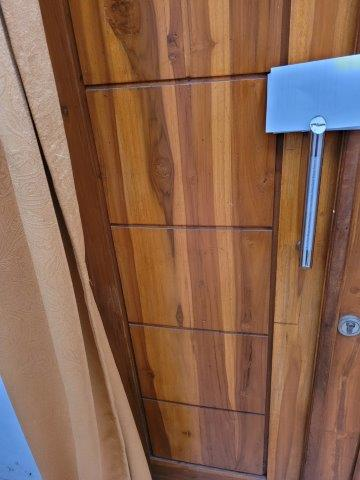kertas: (265, 56, 360, 137)
